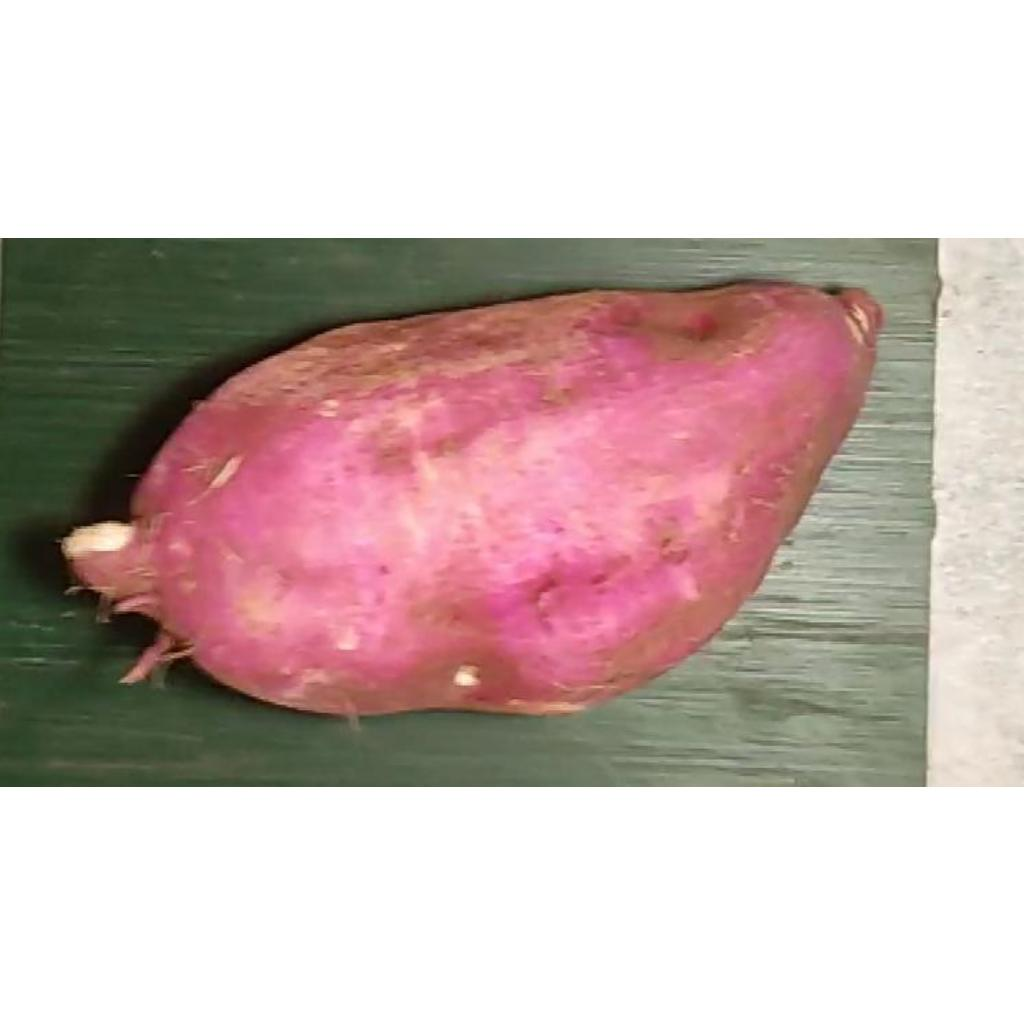Sweet Potato: (59, 280, 885, 722)
